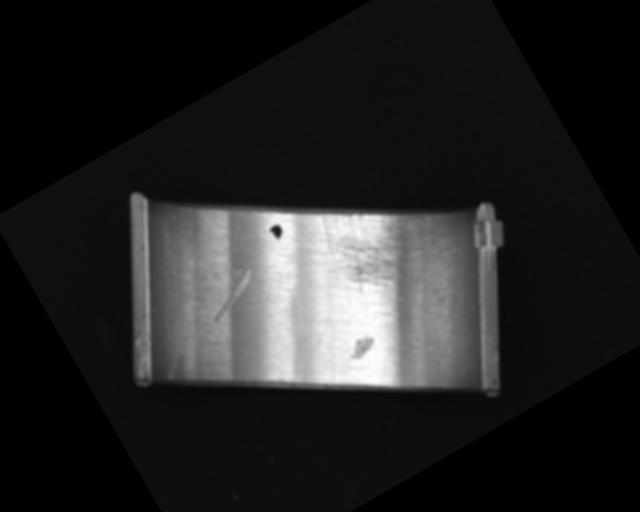blot: (267, 221, 286, 241)
bruise: (343, 331, 379, 362)
nick: (222, 222, 274, 294), (201, 268, 265, 322)
scratch: (297, 171, 443, 312)
